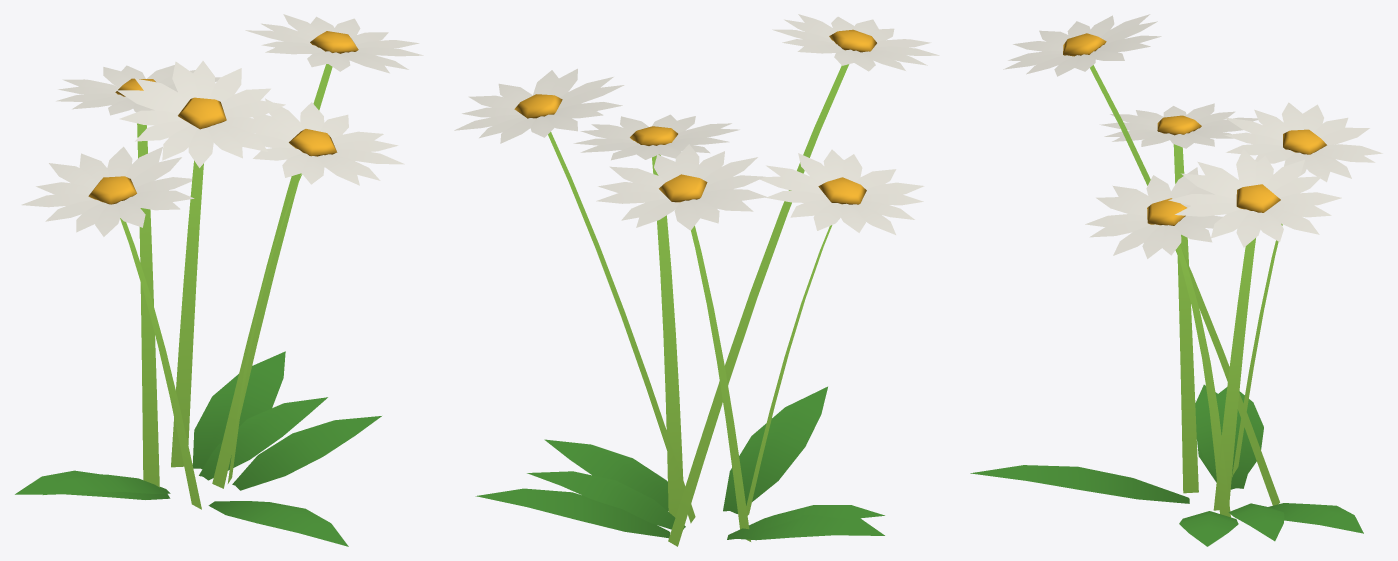
The model's file is daisy1.gltf.
3 renders of one model, left to right at view 1: azimuth 30°, elevation 25°; view 2: azimuth 150°, elevation 25°; view 3: azimuth 270°, elevation 25°, orthographic. The views are drawn at different scales.
Visible parts, largest first — view 1: daisy1_petal_LOD0, daisy1_leaf_LOD0, daisy1_stalk_LOD0, daisy1_center_LOD0; view 2: daisy1_petal_LOD0, daisy1_leaf_LOD0, daisy1_stalk_LOD0, daisy1_center_LOD0; view 3: daisy1_petal_LOD0, daisy1_stalk_LOD0, daisy1_leaf_LOD0, daisy1_center_LOD0.
Part boxes in pixels (x1,y1,x2,y2): daisy1_petal_LOD0: [21, 14, 423, 236]; daisy1_leaf_LOD0: [15, 351, 381, 546]; daisy1_stalk_LOD0: [120, 64, 332, 509]; daisy1_center_LOD0: [88, 31, 358, 204]; daisy1_petal_LOD0: [454, 14, 939, 234]; daisy1_leaf_LOD0: [475, 386, 884, 540]; daisy1_stalk_LOD0: [548, 64, 849, 546]; daisy1_center_LOD0: [514, 29, 876, 204]; daisy1_petal_LOD0: [1003, 14, 1382, 258]; daisy1_stalk_LOD0: [1090, 65, 1282, 517]; daisy1_leaf_LOD0: [970, 384, 1363, 546]; daisy1_center_LOD0: [1063, 33, 1326, 225].
Size of what is drawn, in the model's own units: 0.3141 by 0.337 by 0.2876.
